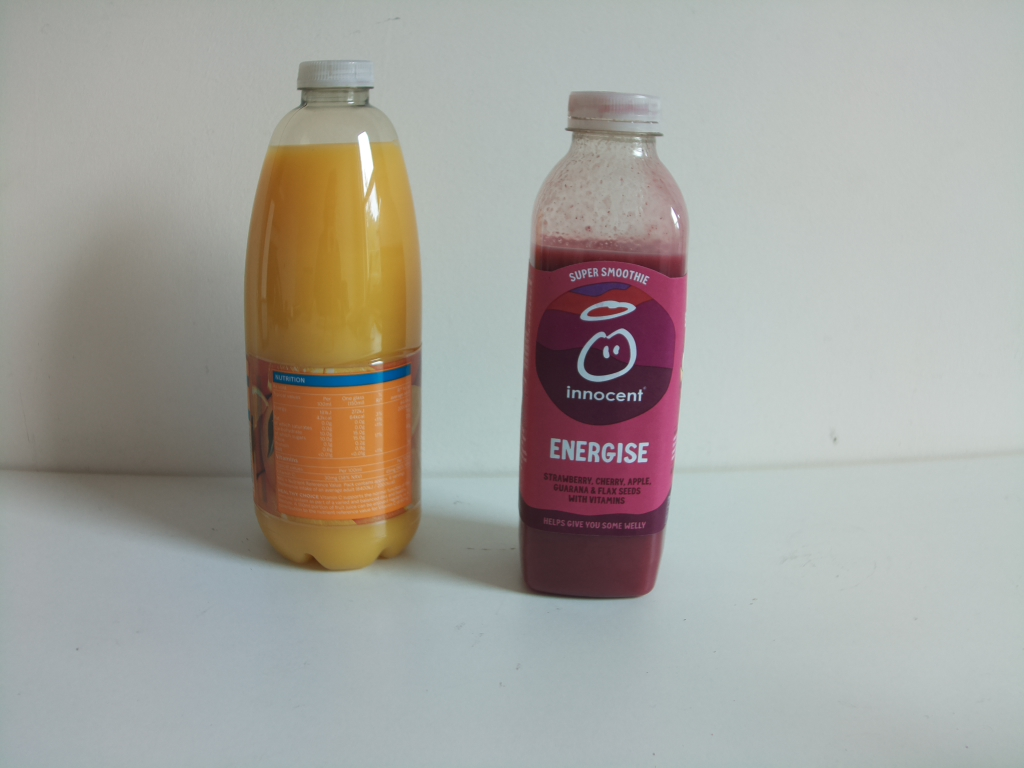juice: (238, 54, 431, 566), (510, 80, 694, 605)
